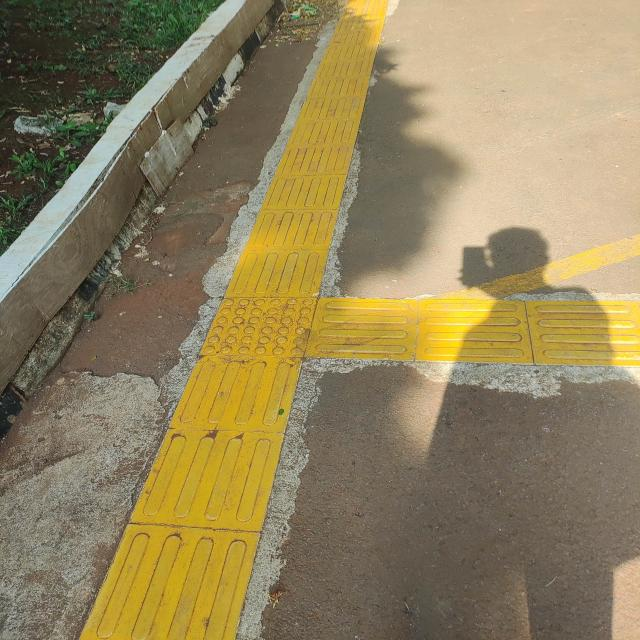lurus: (129, 352, 273, 640), (267, 0, 373, 284)
